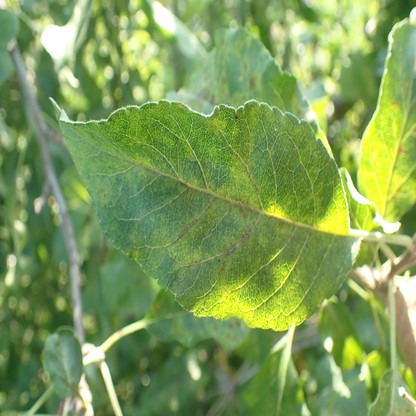scab: (71, 106, 326, 285), (209, 72, 229, 107), (211, 320, 242, 341), (171, 316, 191, 344), (375, 381, 387, 411), (247, 72, 262, 93), (232, 35, 248, 53), (216, 36, 226, 62), (232, 91, 248, 106), (390, 405, 413, 414), (241, 56, 249, 74)
